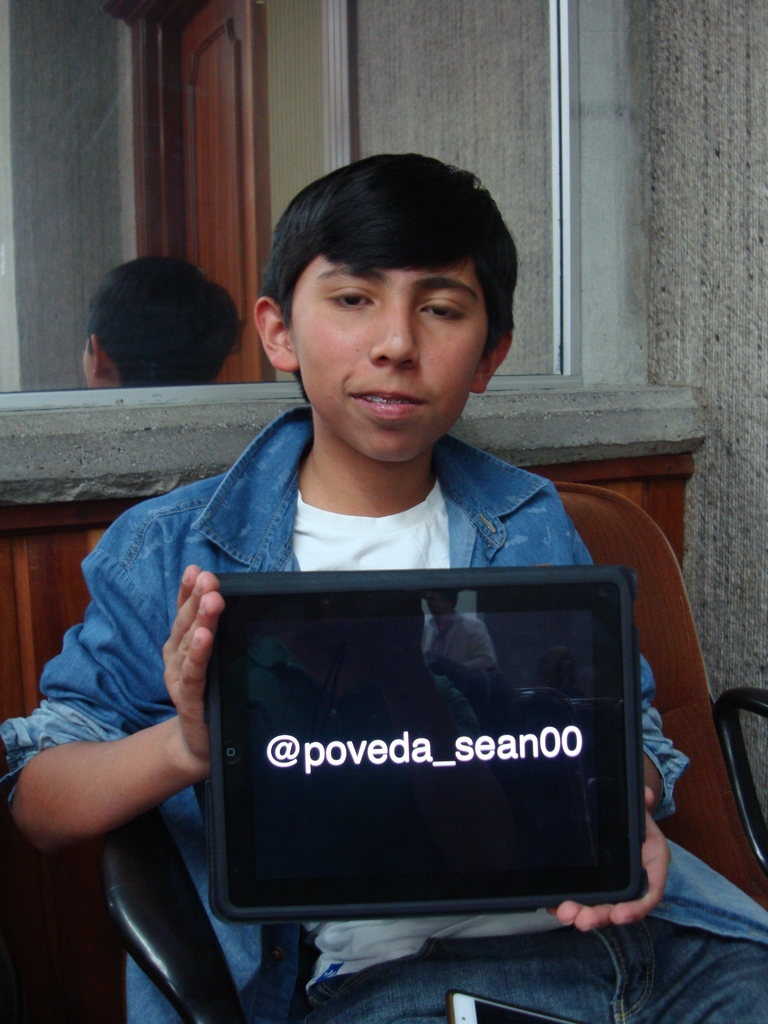Human_hand: (548, 783, 676, 939), (144, 575, 226, 717)
